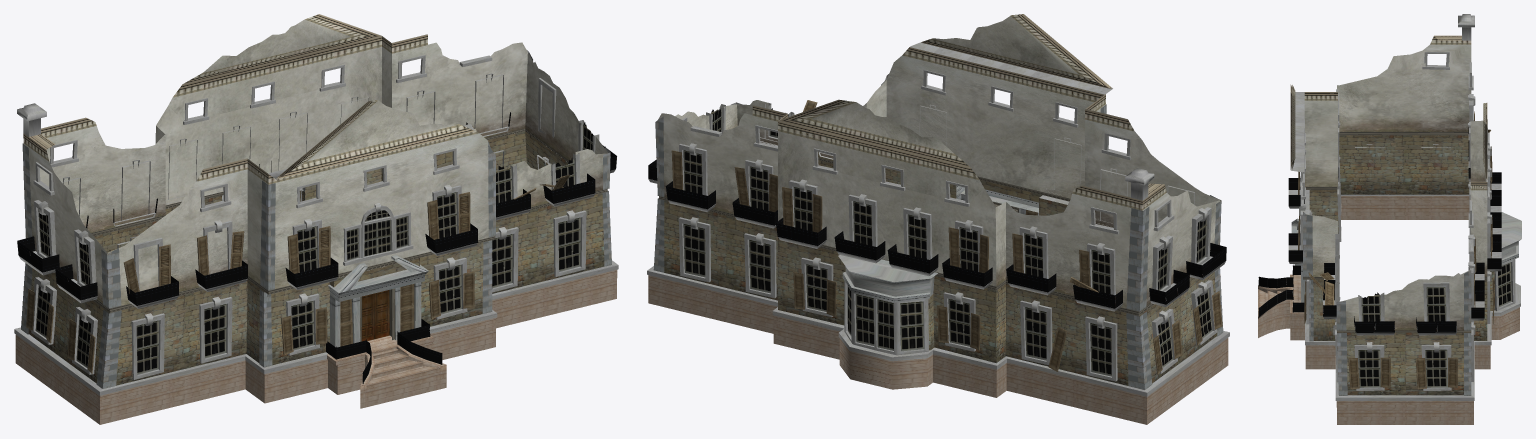
File: pir_m_bld_eng_mansion_burned.fbx
3 renders of one model, left to right at view 1: azimuth 30°, elevation 25°; view 2: azimuth 150°, elevation 25°; view 3: azimuth 270°, elevation 25°, orthographic. The views are drawn at different scales.
Visible parts, largest first — view 1: mansion_outer, mansion_inner, mansion_door_frame, brick_edges_top, brick_edges_bottom, mansion_trim, window_arched, stairs_front, window_d_025, window_d_022, window_d_023, mansion_trim_upper (+22 smaller); view 2: mansion_outer, mansion_inner, window_bay, mansion_trim, mansion_window_base, brick_edges_top, mansion_window_top, brick_edges_bottom, window_d_019, window_d_021, window_d_020, window_d_018 (+27 smaller); view 3: mansion_outer, mansion_inner, mansion_trim, brick_edges_bottom, brick_edges_top, window_d_013, window_d_012, window_middle3, mansion_trim_upper, mansion_window_base, stairs_front, window_bay (+14 smaller).
Boxes of the visible parts, x1=… form: mansion_outer: x1=15, y1=14, x2=617, y2=424; mansion_inner: x1=30, y1=14, x2=607, y2=291; mansion_door_frame: x1=327, y1=255, x2=433, y2=394; brick_edges_top: x1=22, y1=50, x2=610, y2=308; brick_edges_bottom: x1=21, y1=191, x2=611, y2=388; mansion_trim: x1=14, y1=260, x2=618, y2=395; window_arched: x1=343, y1=203, x2=413, y2=265; stairs_front: x1=360, y1=345, x2=446, y2=408; window_d_025: x1=553, y1=210, x2=586, y2=276; window_d_022: x1=131, y1=313, x2=164, y2=379; window_d_023: x1=199, y1=297, x2=232, y2=363; mansion_trim_upper: x1=55, y1=128, x2=607, y2=312; mansion_outer: x1=648, y1=14, x2=1228, y2=424; mansion_inner: x1=662, y1=14, x2=1218, y2=227; window_bay: x1=844, y1=281, x2=928, y2=355; mansion_trim: x1=647, y1=266, x2=1229, y2=396; mansion_window_base: x1=838, y1=329, x2=933, y2=389; brick_edges_top: x1=655, y1=74, x2=1221, y2=311; mansion_window_top: x1=838, y1=255, x2=937, y2=302; brick_edges_bottom: x1=653, y1=198, x2=1223, y2=389; window_d_019: x1=1085, y1=316, x2=1117, y2=381; window_d_021: x1=744, y1=233, x2=776, y2=298; window_d_020: x1=678, y1=217, x2=710, y2=282; window_d_018: x1=1020, y1=300, x2=1052, y2=365; mansion_outer: x1=1290, y1=35, x2=1490, y2=424; mansion_inner: x1=1292, y1=35, x2=1486, y2=297; mansion_trim: x1=1305, y1=194, x2=1491, y2=400; brick_edges_bottom: x1=1309, y1=280, x2=1471, y2=395; brick_edges_top: x1=1303, y1=85, x2=1471, y2=330; window_d_013: x1=1354, y1=345, x2=1384, y2=390; window_d_012: x1=1421, y1=345, x2=1451, y2=390; window_middle3: x1=1423, y1=282, x2=1449, y2=321; mansion_trim_upper: x1=1303, y1=131, x2=1487, y2=332; mansion_window_base: x1=1490, y1=283, x2=1520, y2=339; stairs_front: x1=1258, y1=285, x2=1290, y2=337; window_bay: x1=1494, y1=259, x2=1515, y2=310.
Bounding box in the file's own units: 15761 × 7999 × 8265.
2 materials, 2 textured.
